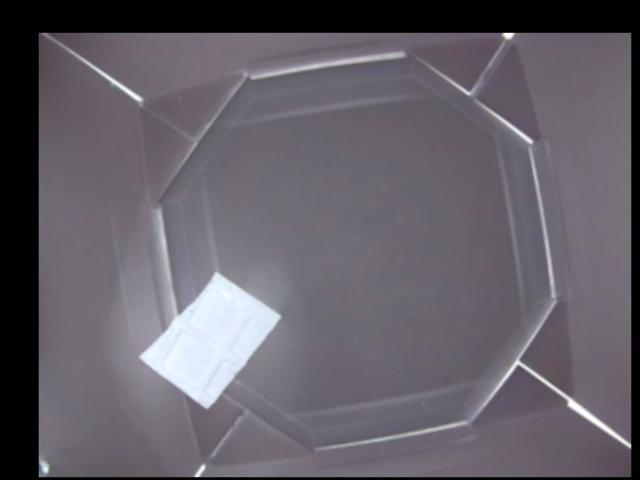China: (138, 267, 279, 412)
